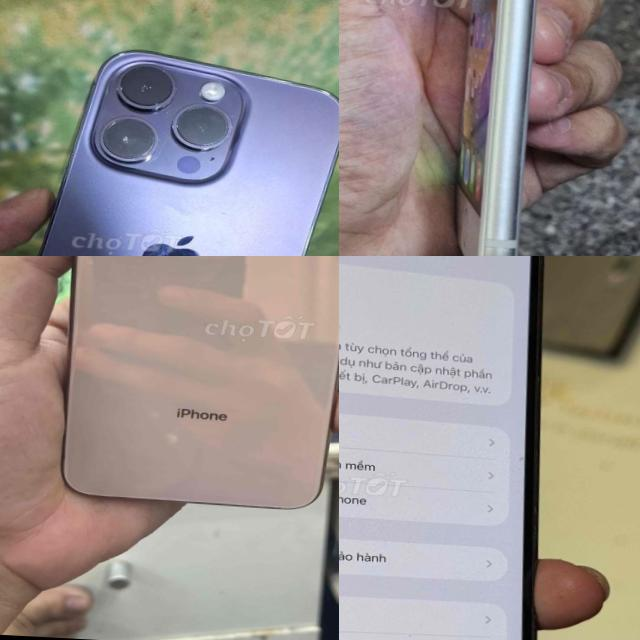gen_12_13: (339, 256, 570, 640)
gen_14: (0, 31, 339, 256)
gen_7_8: (456, 0, 536, 256)
gen_x_xs: (33, 256, 339, 519)
scratch: (484, 0, 536, 10)
